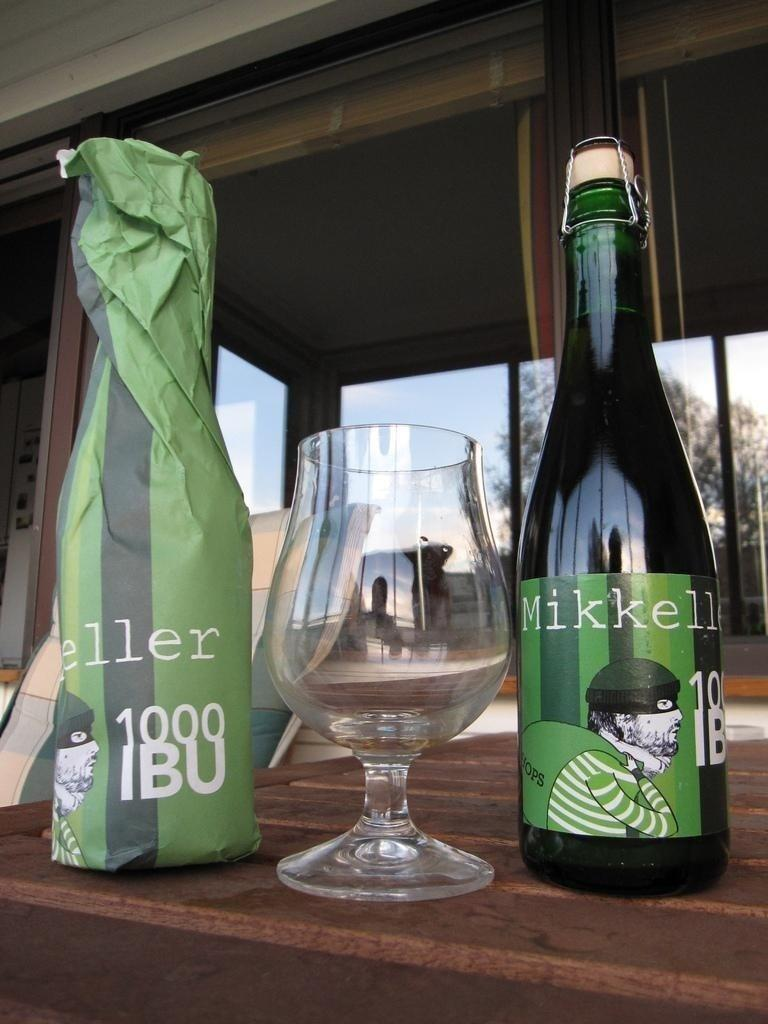bottle-glass: (510, 137, 731, 899)
glass-wine: (257, 420, 513, 901)
